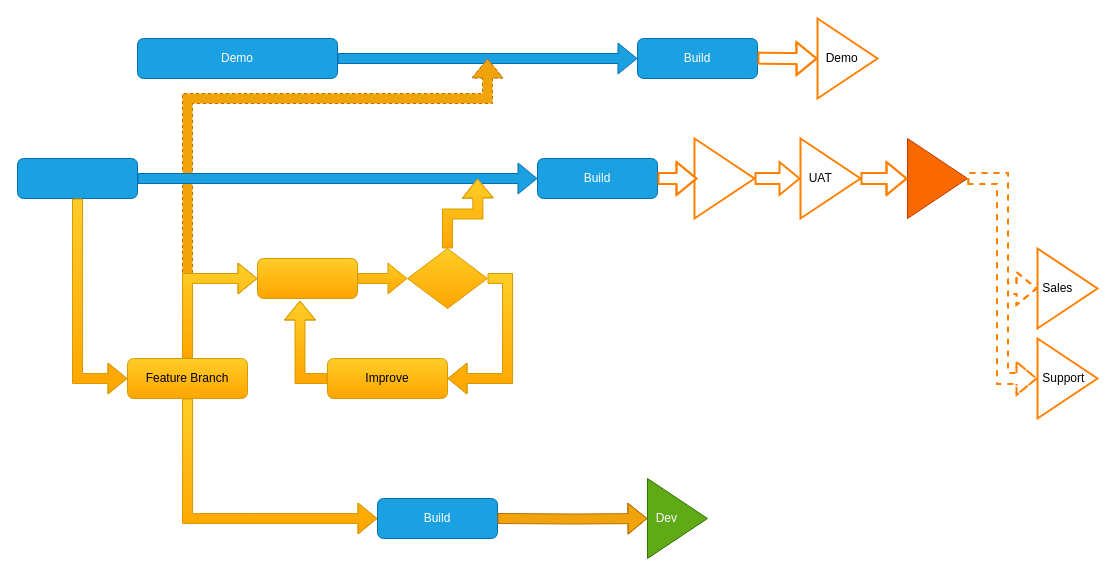
This 1116x576 diagram has some shape labels left out. The box of each missing label's shape, as (x1, y1, x2, y2) in pixels:
Changes: (406, 248, 488, 308)
Peer Review: (256, 258, 358, 298)
Prod: (906, 138, 968, 218)
Test: (693, 137, 755, 219)
Trunk: (16, 158, 138, 198)
